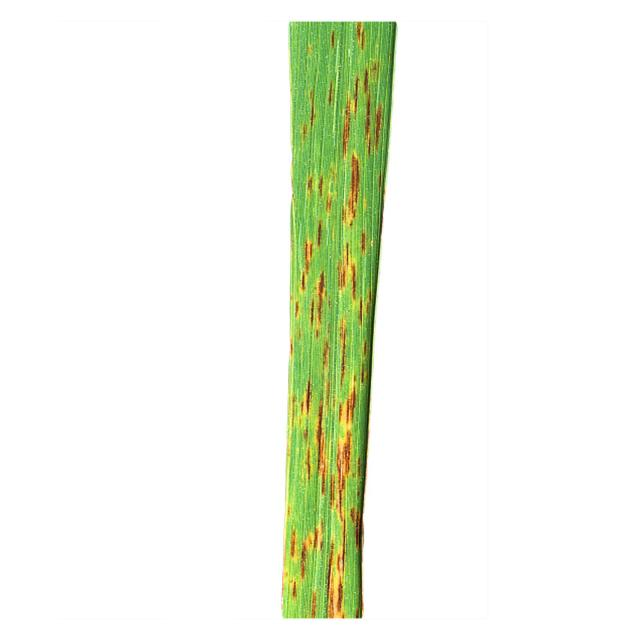Narrow brown: (192, 6, 554, 628)
